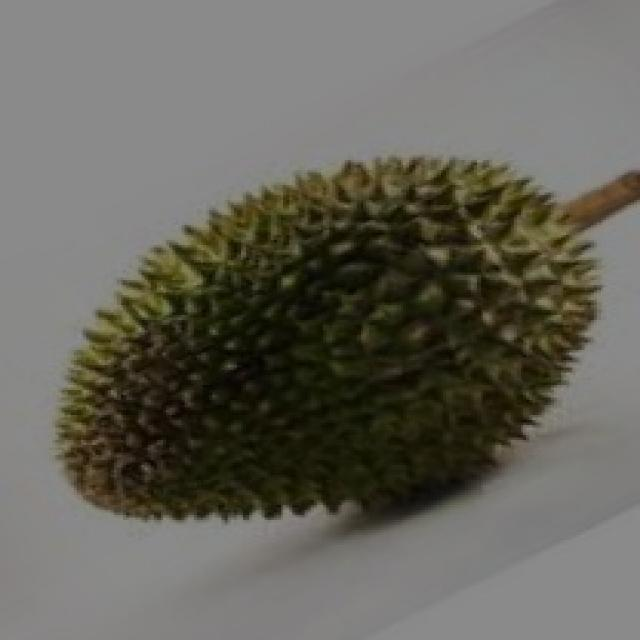fruit: (246, 122, 640, 560), (12, 182, 410, 568)
